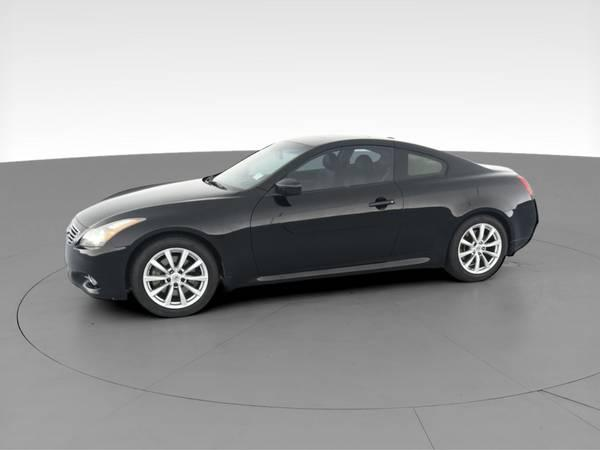Front_Bumper: (63, 241, 132, 301)
Front_Fender: (96, 189, 266, 286)
Front_Left_Door: (252, 181, 405, 278)
Front_Left_Window: (270, 147, 396, 193)
Front_Windshield: (209, 141, 309, 193)
Grille: (63, 219, 84, 250)
Hood: (73, 176, 243, 233)
Left_Headlight: (76, 220, 146, 252)
Rear_Bumper: (504, 201, 535, 255)
Rear_Fender: (386, 149, 534, 268)
Roof: (258, 135, 495, 192)
Wheel: (132, 234, 221, 313), (451, 217, 508, 282)
